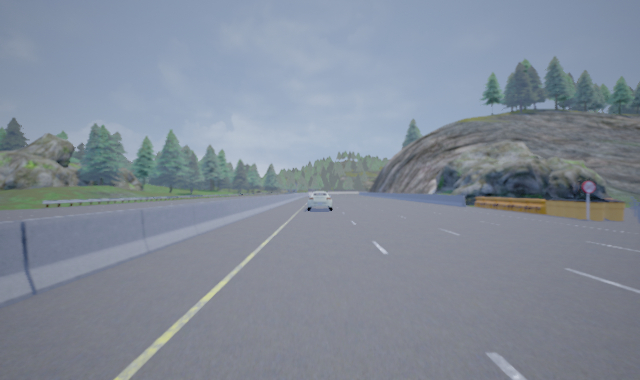traffic_sign: (580, 179, 598, 194)
vehicle: (306, 191, 333, 211)
